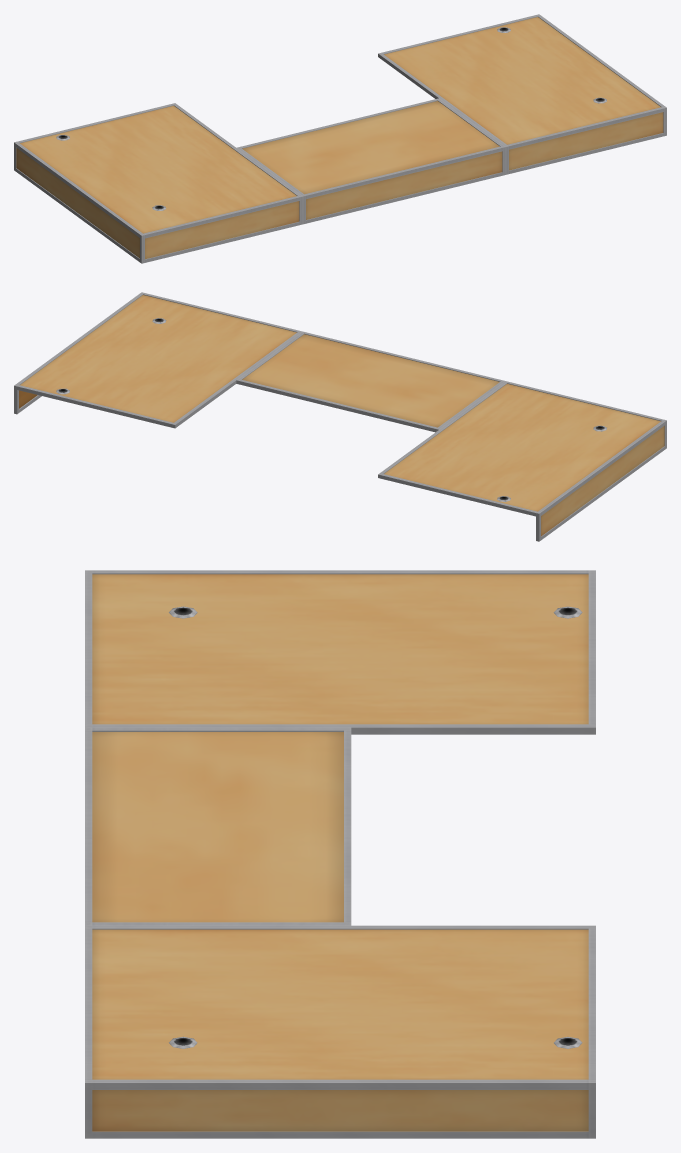
File: jsf_4P_s02_c05_t04_DX.fbx
3 renders of one model, top to bottom at view 1: azimuth 30°, elevation 25°; view 2: azimuth 150°, elevation 25°; view 3: azimuth 270°, elevation 25°, orthographic. The views are drawn at different scales.
Visible parts, largest first — view 1: jsf_4P_s02_c05_t04_DX; view 2: jsf_4P_s02_c05_t04_DX; view 3: jsf_4P_s02_c05_t04_DX.
Boxes of the visible parts, x1=… form: jsf_4P_s02_c05_t04_DX: x1=14, y1=14, x2=666, y2=263; jsf_4P_s02_c05_t04_DX: x1=14, y1=292, x2=666, y2=541; jsf_4P_s02_c05_t04_DX: x1=85, y1=570, x2=595, y2=1138.
Size of the model in its own units: 246 by 12.99 by 104.
